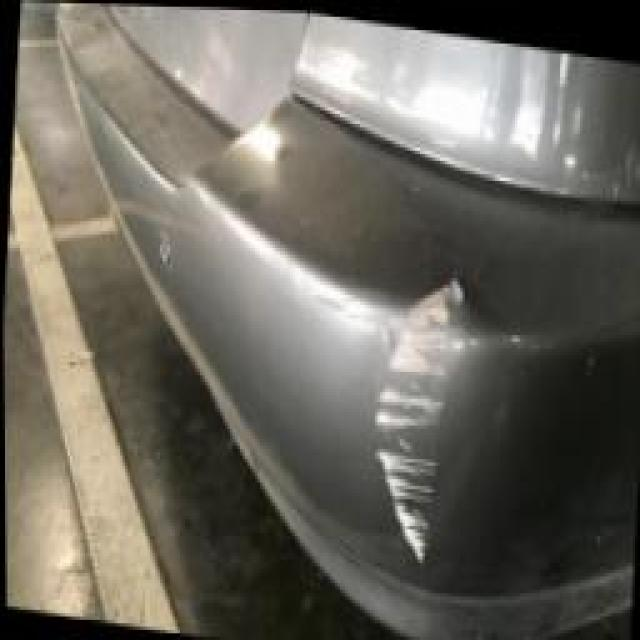Bumper: (315, 241, 485, 592)
